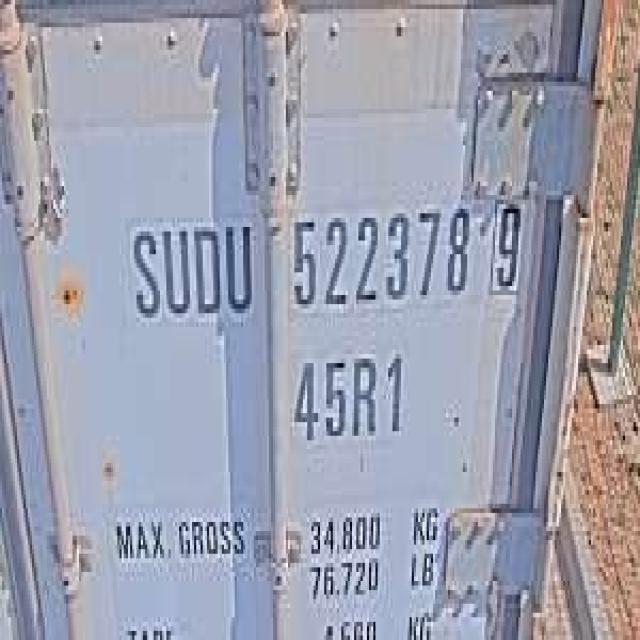dv: (484, 186, 531, 304)
owner: (124, 200, 256, 327)
serial: (284, 186, 474, 318)
size: (284, 340, 407, 450)
